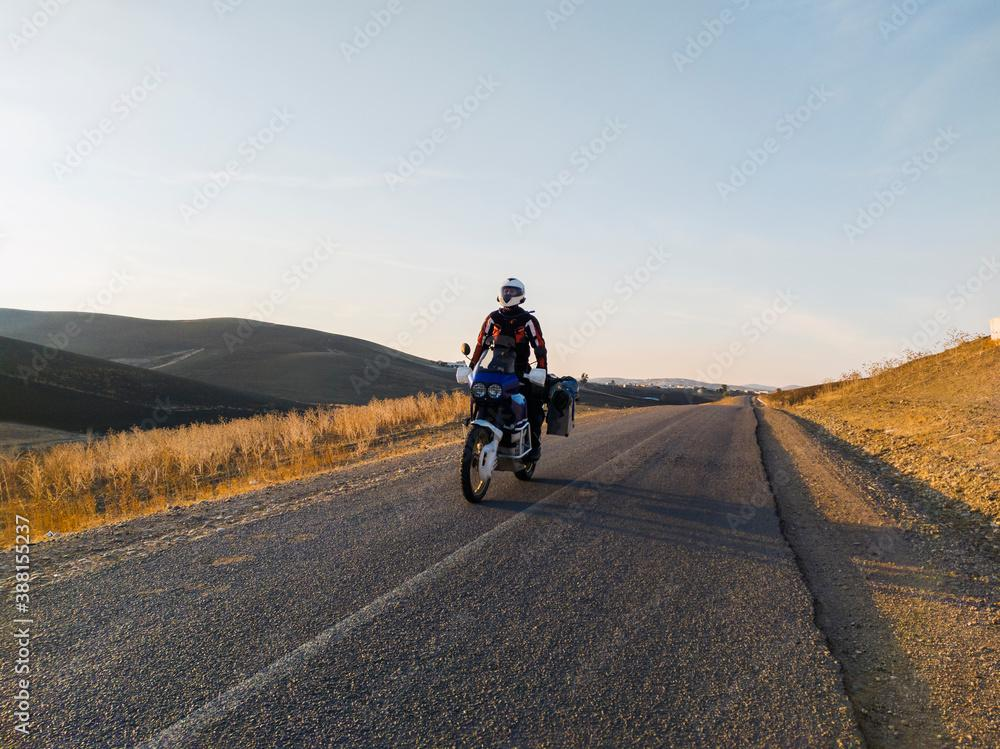helmet: (496, 277, 527, 308)
